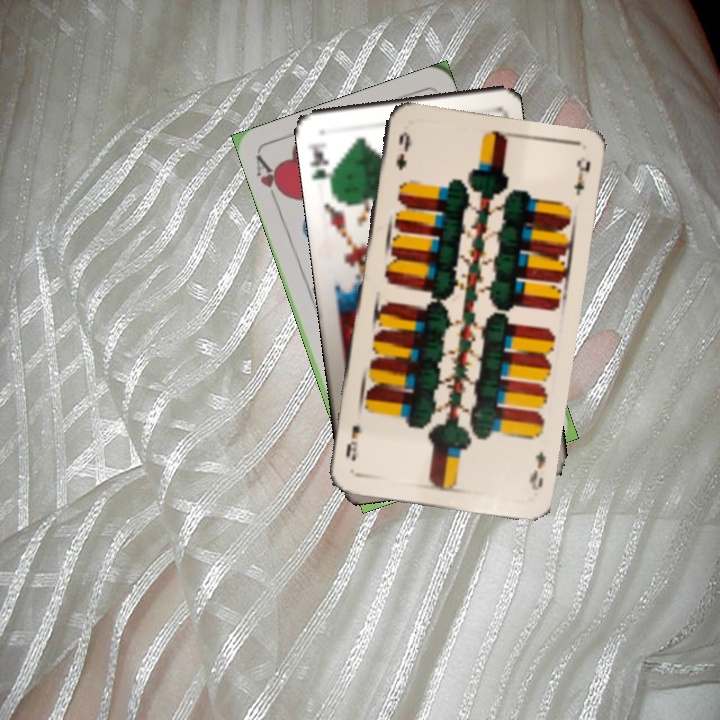E9: (525, 447, 549, 493), (392, 128, 413, 173)
GK: (303, 138, 335, 189)
HA: (252, 151, 288, 208)
